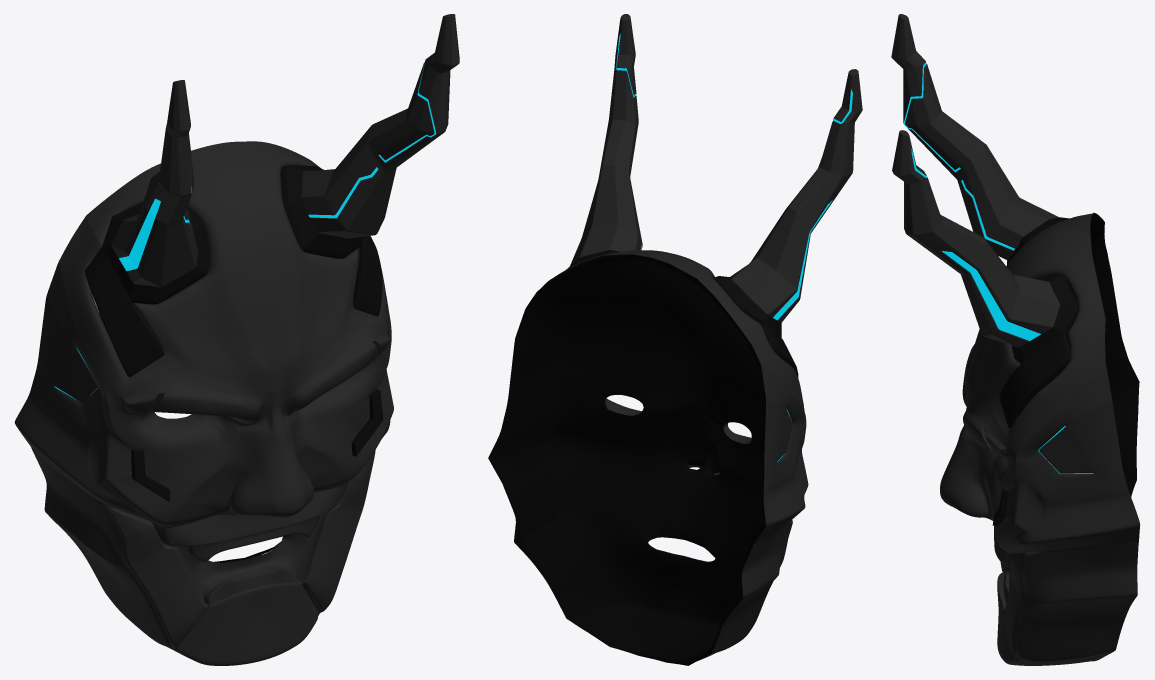
The model's file is cyber-oni_mask.glb.
3 views of the same model, side by side, from view 1: azimuth 30°, elevation 25°; view 2: azimuth 150°, elevation 25°; view 3: azimuth 270°, elevation 25° (orthographic). The views are drawn at different scales.
Visible parts, largest first — view 1: Object_6, Object_5, Object_4, Object_3; view 2: Object_2, Object_5, Object_6, Object_4, Object_3; view 3: Object_6, Object_5, Object_4, Object_2, Object_3.
Part boxes in pixels (x1,y1,x2,y2): Object_6: [14, 141, 393, 665]; Object_5: [111, 14, 459, 287]; Object_4: [85, 165, 382, 501]; Object_3: [54, 68, 436, 399]; Object_2: [488, 254, 766, 665]; Object_5: [570, 14, 862, 322]; Object_6: [489, 250, 808, 664]; Object_4: [566, 250, 798, 377]; Object_3: [616, 33, 852, 461]; Object_6: [940, 213, 1140, 665]; Object_5: [891, 14, 1060, 347]; Object_4: [992, 217, 1079, 525]; Object_2: [1019, 212, 1139, 496]; Object_3: [904, 62, 1093, 473].
Bounding box in the file's own units: 1.62 × 3.1 × 1.21.
